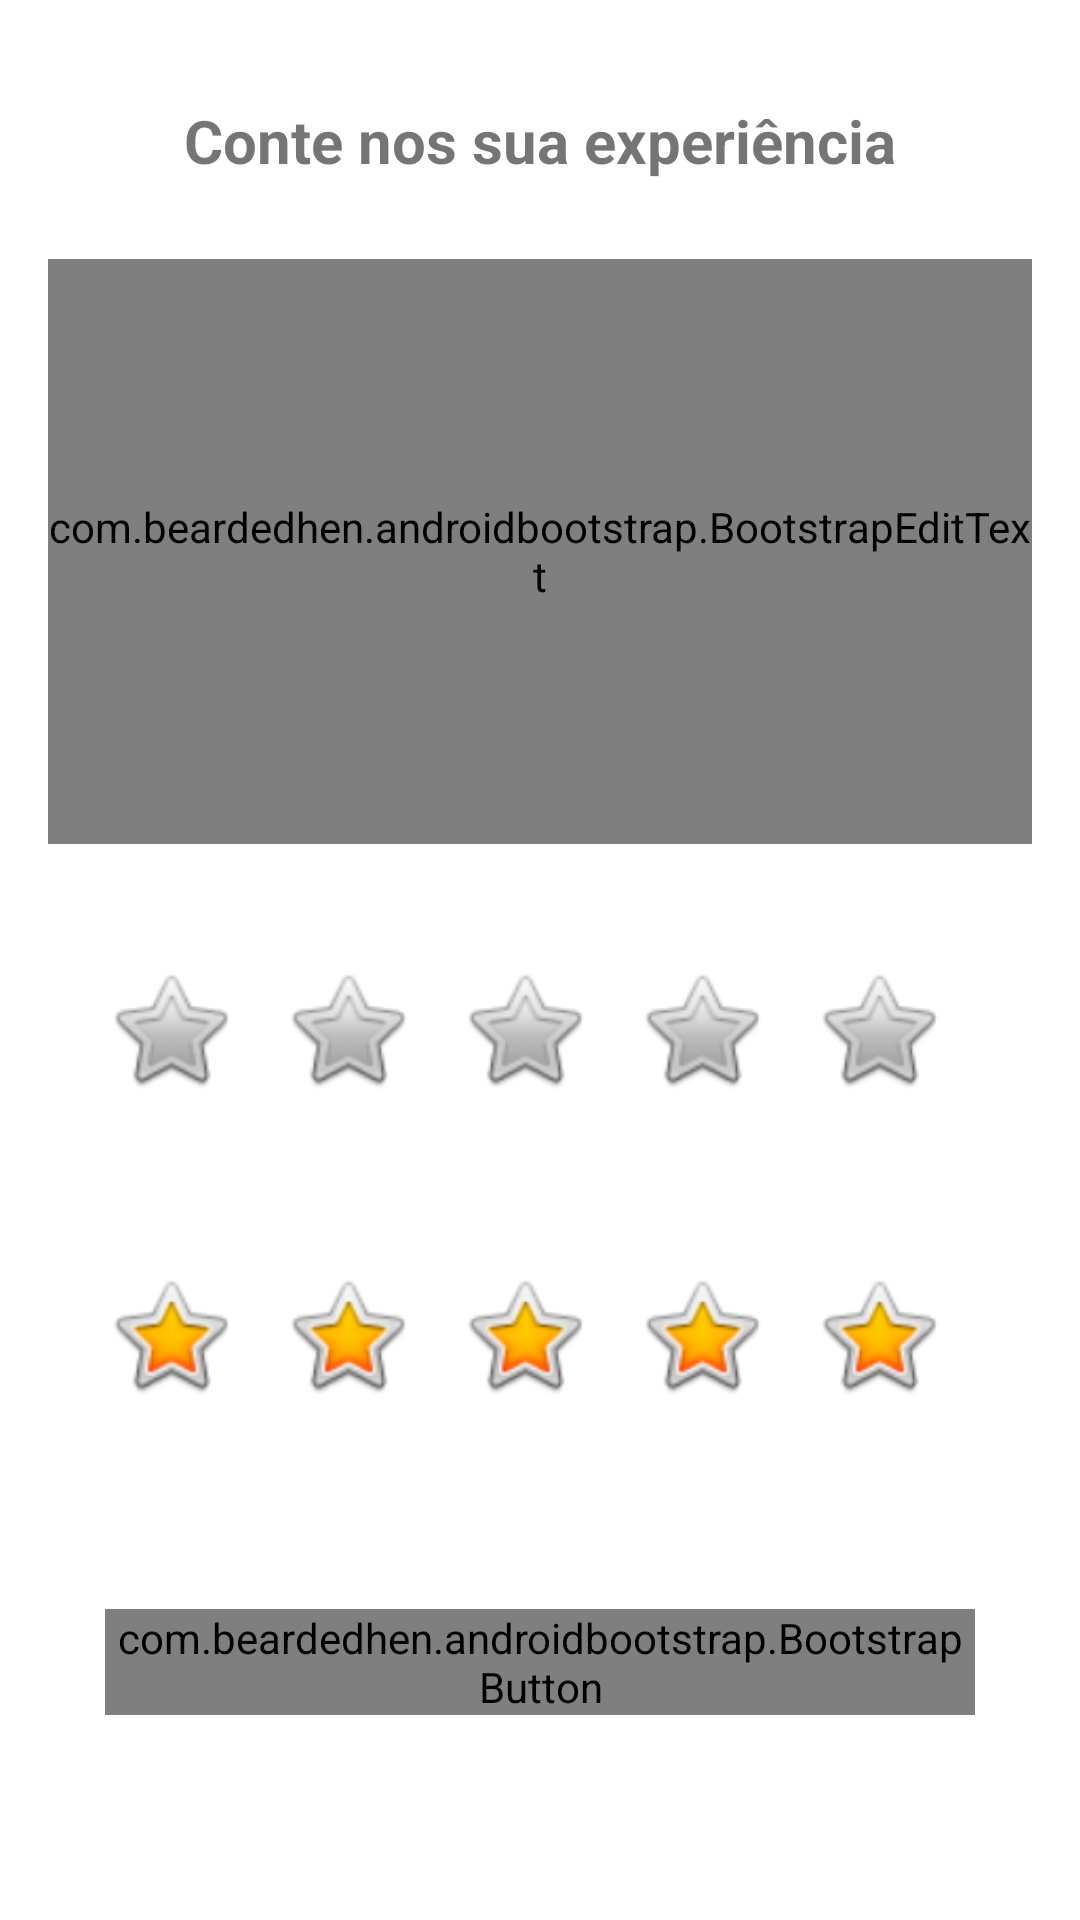

Screen size 1080px×1920px. Icon name, then its box in pixels as (x1, y1, x2, y2):
star off: (115, 976, 228, 1086), (292, 976, 405, 1086), (469, 976, 582, 1086), (646, 976, 759, 1086), (823, 976, 936, 1086)
star on: (115, 1282, 228, 1392), (292, 1282, 405, 1392), (469, 1282, 582, 1392), (646, 1282, 759, 1392), (823, 1282, 936, 1392)
